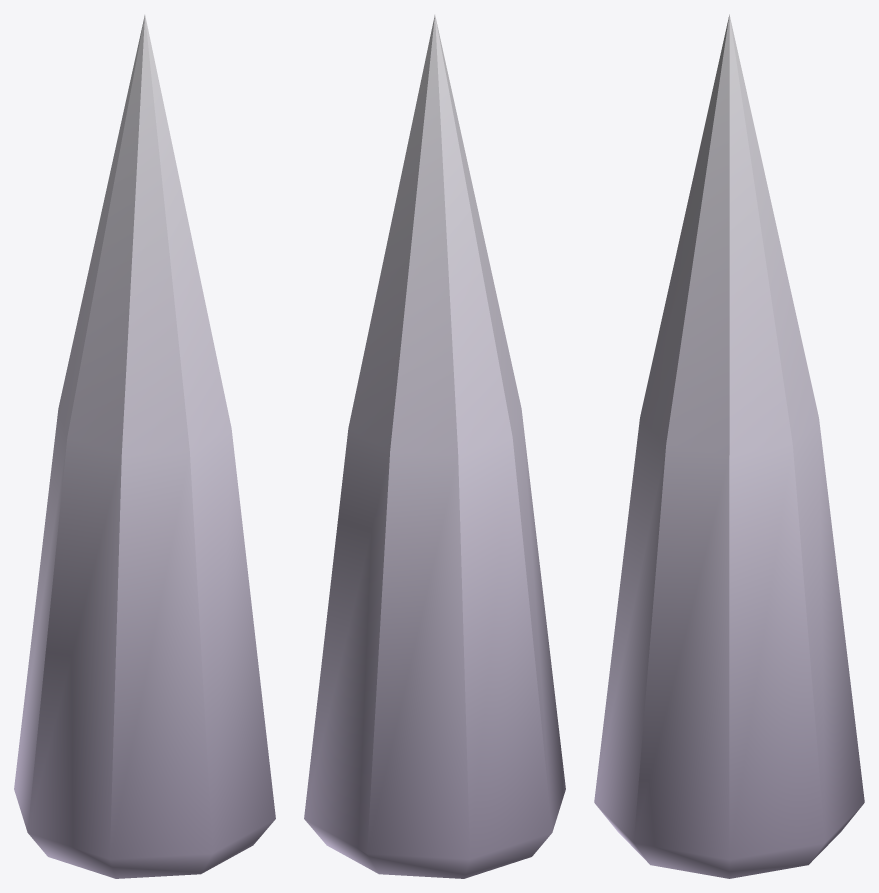
File: M_Barb.fbx
3 renders of one model, left to right at view 1: azimuth 30°, elevation 25°; view 2: azimuth 150°, elevation 25°; view 3: azimuth 270°, elevation 25°, orthographic.
Visible parts, largest first — view 1: M_Barb; view 2: M_Barb; view 3: M_Barb.
Boxes of the visible parts, bbox=[...] form: M_Barb: bbox=[14, 15, 275, 878]; M_Barb: bbox=[304, 15, 565, 878]; M_Barb: bbox=[594, 14, 864, 878].
Bounding box in the file's own units: 22.38 × 74.59 × 22.38.
